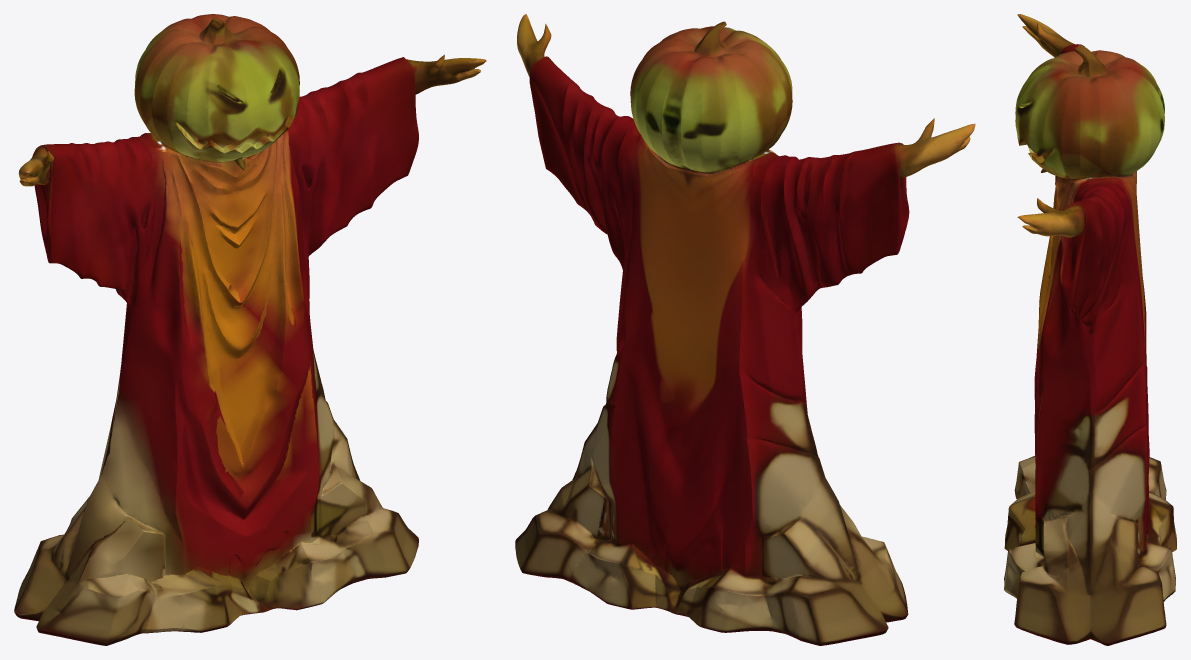
File: base_basic_pbr.fbx
3 views of the same model, side by side, from view 1: azimuth 30°, elevation 25°; view 2: azimuth 150°, elevation 25°; view 3: azimuth 270°, elevation 25° (orthographic). The views are drawn at different scales.
Parts seen in each view (by area): view 1: model; view 2: model; view 3: model.
Boxes of the visible parts, x1,y1,x2,y2 form: model: (14, 14, 486, 645); model: (515, 14, 975, 645); model: (1004, 14, 1176, 645).
Size of the model in its own units: 160 by 190 by 57.19.
Materials: 1 (1 with a texture image).
